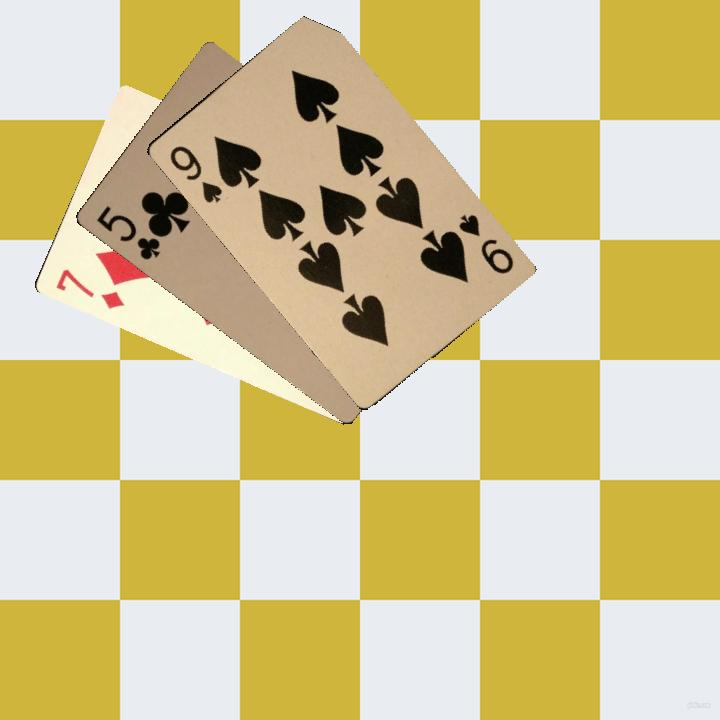5c: (92, 201, 166, 263)
7d: (52, 264, 126, 312)
9s: (454, 210, 517, 277), (165, 141, 225, 206)
